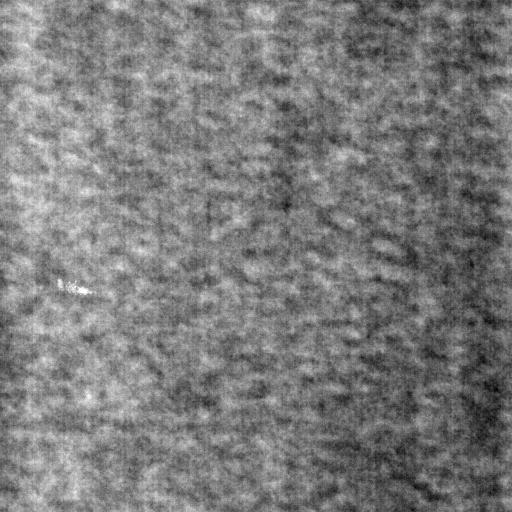DefectTypeA: (57, 279, 97, 295)
